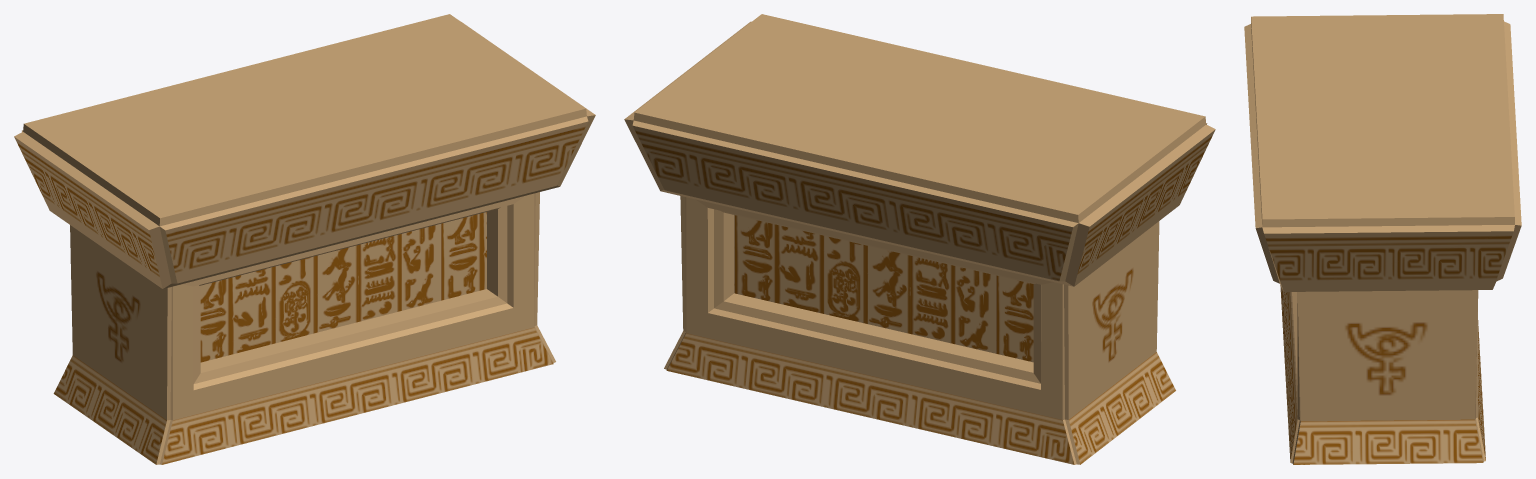
The model's file is portacachorro.fbx.
3 views of the same model, side by side, from view 1: azimuth 30°, elevation 25°; view 2: azimuth 150°, elevation 25°; view 3: azimuth 270°, elevation 25° (orthographic). The views are drawn at different scales.
Parts seen in each view (by area): view 1: portacachorro; view 2: portacachorro; view 3: portacachorro.
Boxes of the visible parts, left/top/right/bottom form: portacachorro: left=14, top=14, right=595, bottom=464; portacachorro: left=624, top=14, right=1215, bottom=464; portacachorro: left=1244, top=14, right=1521, bottom=464.
Size of the model in its own units: 693 by 378 by 377.
